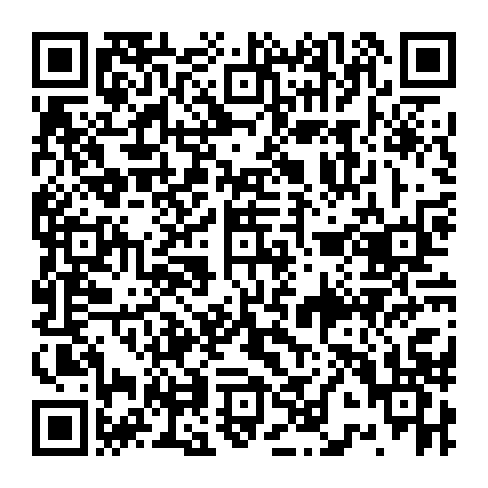QR_CODE: (21, 24, 463, 465)
